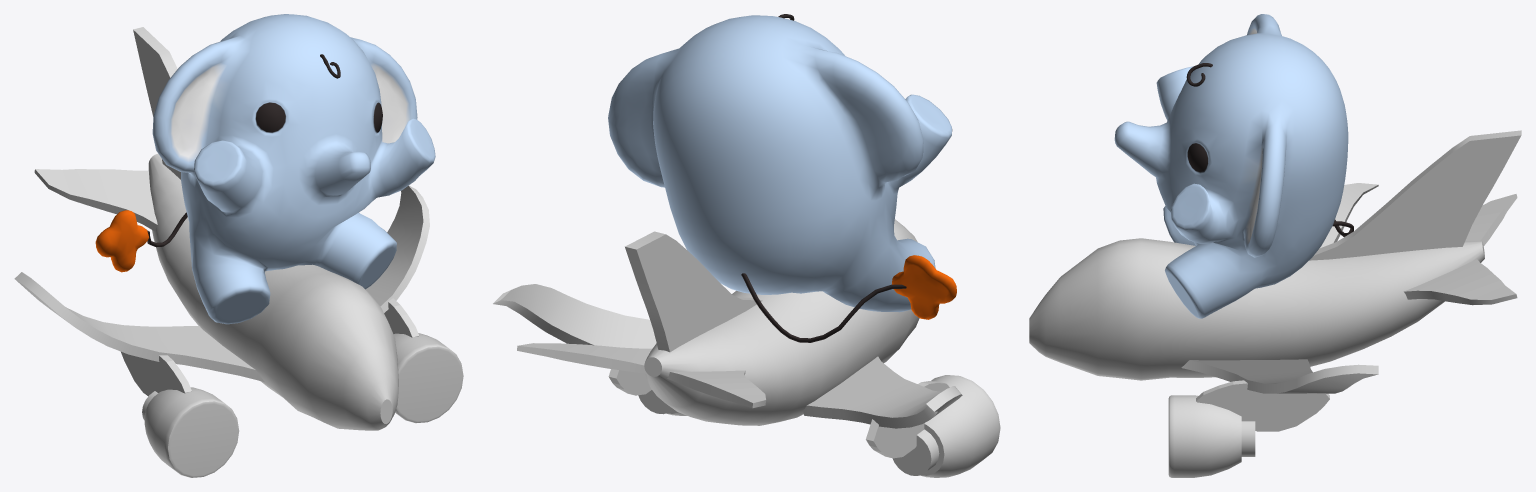
File: OnPlane_Bam (1).fbx
3 renders of one model, left to right at view 1: azimuth 30°, elevation 25°; view 2: azimuth 150°, elevation 25°; view 3: azimuth 270°, elevation 25°, orthographic. The views are drawn at different scales.
Parts seen in each view (by area): view 1: SK_Bam, body, engine, wings, tail_fin_smaller, thing_that_connects_engine_to_wing, tail_fin; view 2: SK_Bam, body, wings, tail_fin, engine, tail_fin_smaller, thing_that_connects_engine_to_wing; view 3: SK_Bam, body, tail_fin, engine, wings, tail_fin_smaller, thing_that_connects_engine_to_wing.
Boxes of the visible parts, bbox=[...] form: SK_Bam: bbox=[95, 14, 435, 324]; body: bbox=[148, 153, 398, 430]; engine: bbox=[142, 333, 463, 477]; wings: bbox=[14, 185, 429, 381]; tail_fin_smaller: bbox=[34, 169, 157, 231]; thing_that_connects_engine_to_wing: bbox=[121, 298, 419, 396]; tail_fin: bbox=[133, 27, 180, 179]; SK_Bam: bbox=[608, 14, 956, 342]; body: bbox=[644, 219, 919, 425]; wings: bbox=[493, 284, 962, 428]; tail_fin: bbox=[625, 231, 762, 352]; engine: bbox=[638, 375, 1000, 477]; tail_fin_smaller: bbox=[517, 343, 765, 408]; thing_that_connects_engine_to_wing: bbox=[608, 369, 949, 458]; SK_Bam: bbox=[1114, 14, 1353, 318]; body: bbox=[1029, 238, 1484, 380]; tail_fin: bbox=[1309, 130, 1521, 260]; engine: bbox=[1168, 395, 1255, 477]; wings: bbox=[1181, 183, 1378, 393]; tail_fin_smaller: bbox=[1404, 194, 1517, 305]; thing_that_connects_engine_to_wing: bbox=[1196, 380, 1329, 431].
Bounding box in the file's own units: 74 × 70.14 × 81.38.
